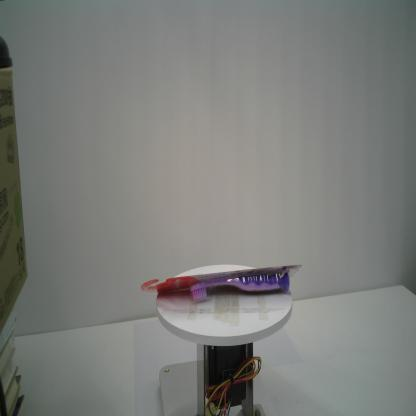Personal Hygiene: (140, 264, 304, 305)
